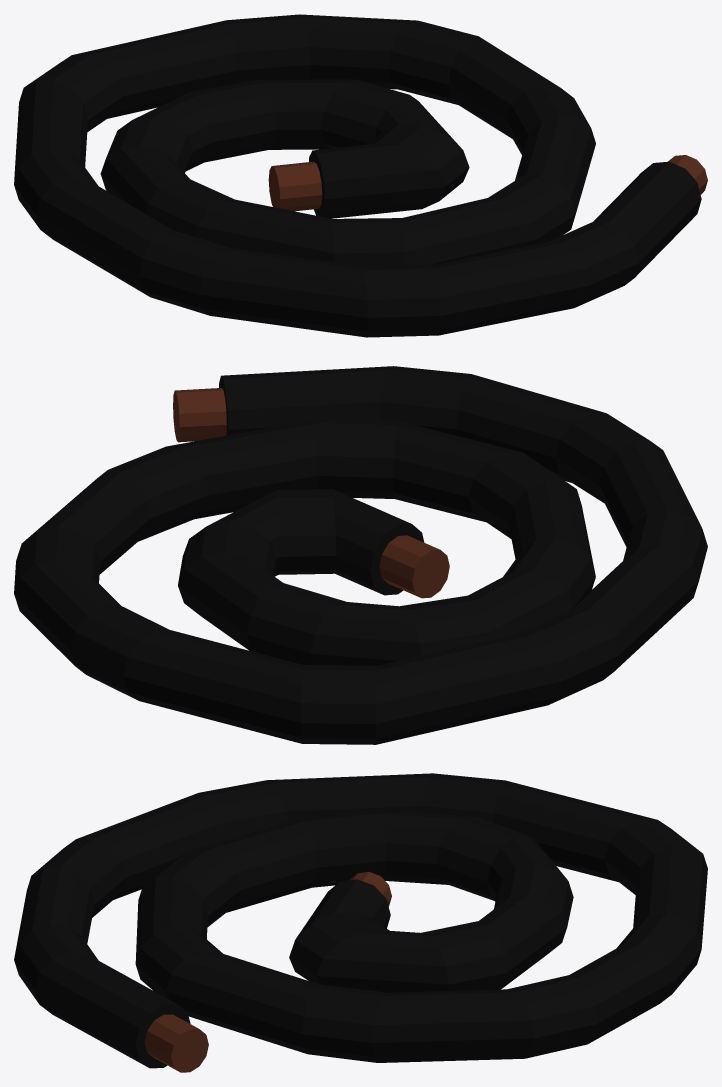
File: twistcable.fbx
3 views of the same model, one above another, from view 1: azimuth 30°, elevation 25°; view 2: azimuth 150°, elevation 25°; view 3: azimuth 270°, elevation 25° (orthographic). The views are drawn at different scales.
Parts seen in each view (by area): view 1: twisty cable, wiretwist; view 2: twisty cable, wiretwist; view 3: twisty cable, wiretwist.
Boxes of the visible parts, x1,y1,x2,y2 form: twisty cable: (14,14,701,337); wiretwist: (268,155,707,211); twisty cable: (14,366,707,744); wiretwist: (173,388,449,598); twisty cable: (14,773,707,1068); wiretwist: (144,872,391,1072).
Bounding box in the file's own units: 28 × 3.15 × 31.15.
